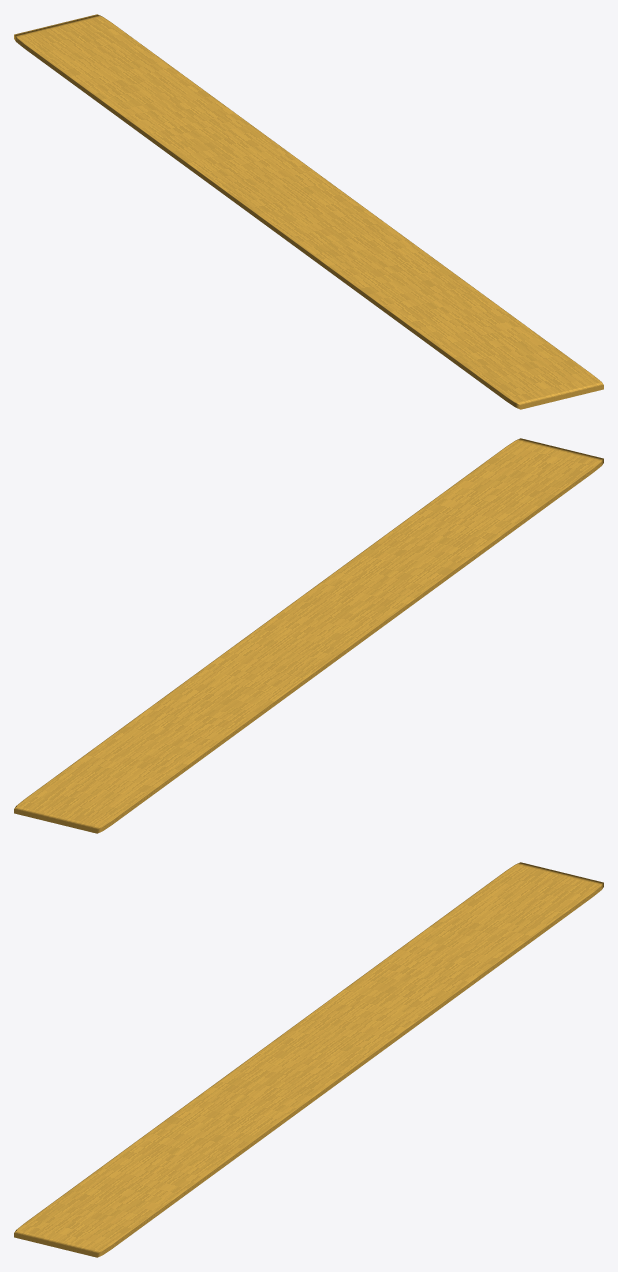
File: align-line.glb
3 renders of one model, top to bottom at view 1: azimuth 30°, elevation 25°; view 2: azimuth 150°, elevation 25°; view 3: azimuth 330°, elevation 25°, orthographic.
Visible parts, largest first — view 1: panel; view 2: panel; view 3: panel.
Boxes of the visible parts, x1,y1,x2,y2 form: panel: (14,14,603,409); panel: (14,438,603,833); panel: (14,862,603,1257).
Size of the model in its own units: 0.1 by 0.005 by 1.
Materials: 1 (1 with a texture image).
